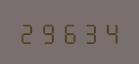four: (98, 20, 117, 44)
nine: (38, 20, 57, 44)
six: (58, 20, 77, 44)
three: (78, 20, 97, 44)
two: (18, 20, 37, 44)
